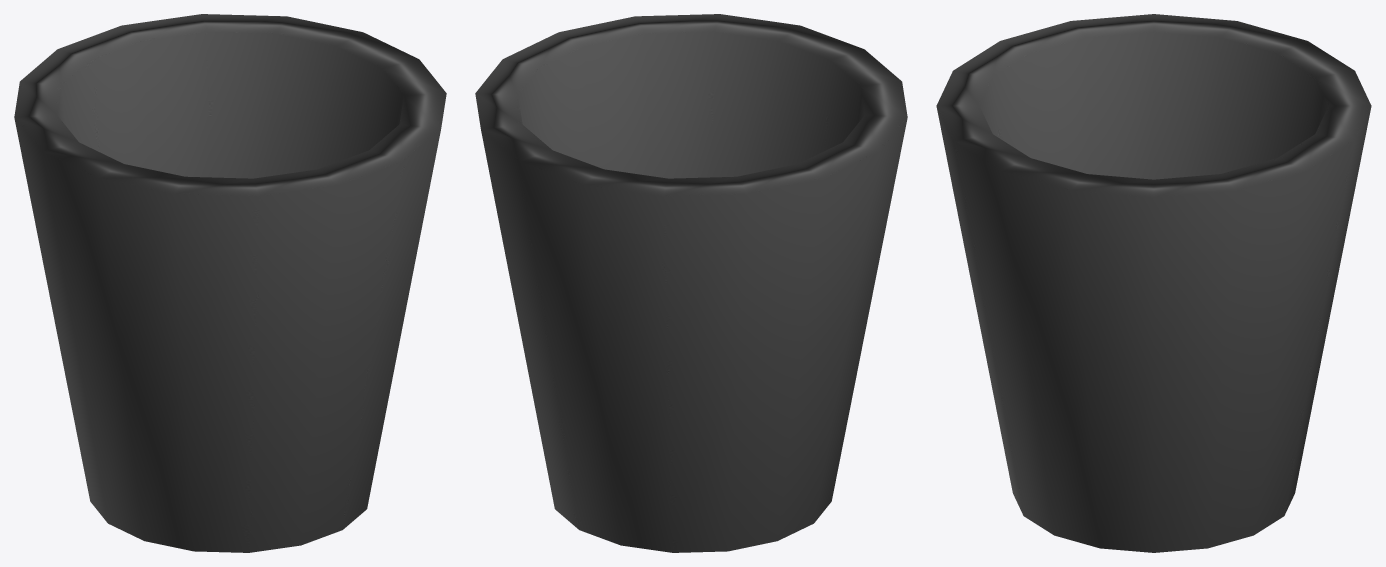
File: basket.fbx
3 views of the same model, side by side, from view 1: azimuth 30°, elevation 25°; view 2: azimuth 150°, elevation 25°; view 3: azimuth 270°, elevation 25° (orthographic).
Parts seen in each view (by area): view 1: basket; view 2: basket; view 3: basket.
Boxes of the visible parts, bbox=[...] form: basket: bbox=[14, 14, 446, 552]; basket: bbox=[475, 14, 907, 552]; basket: bbox=[936, 14, 1371, 552].
Bounding box in the file's own units: 19.3 × 18.96 × 19.3.
1 material, 1 textured.
